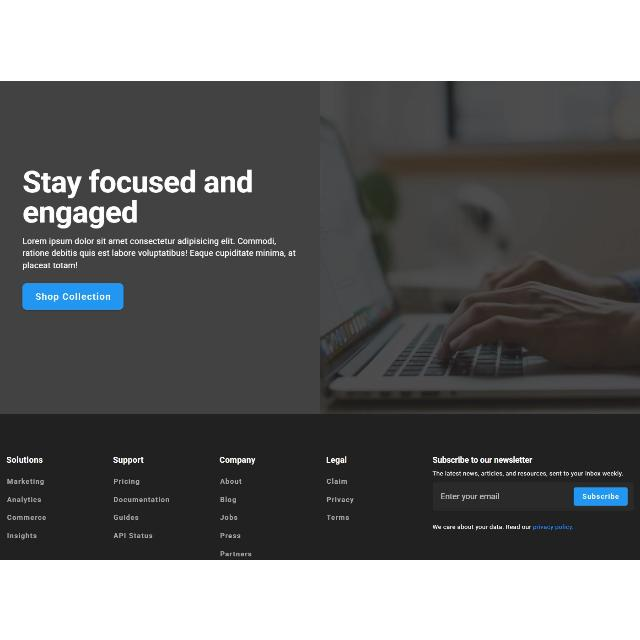QLabel: (22, 168, 255, 230), (21, 235, 299, 271), (432, 469, 624, 476), (432, 456, 532, 464), (432, 523, 532, 531), (36, 292, 110, 302), (5, 512, 47, 522), (4, 455, 44, 465), (114, 496, 170, 502), (218, 456, 256, 464), (112, 456, 144, 464), (112, 532, 154, 538), (532, 525, 574, 531), (6, 478, 46, 484), (6, 496, 44, 502), (326, 496, 354, 504), (326, 514, 352, 522), (6, 532, 38, 538), (220, 550, 252, 556), (220, 494, 238, 504), (326, 478, 348, 486), (326, 456, 348, 464), (220, 476, 242, 484), (112, 478, 140, 484), (112, 514, 140, 520), (220, 532, 242, 538), (220, 514, 238, 520)
VBtn: (21, 281, 125, 311)
VFooter: (0, 414, 640, 560)
VImg: (320, 81, 640, 412)
VTextField: (432, 482, 634, 511)
